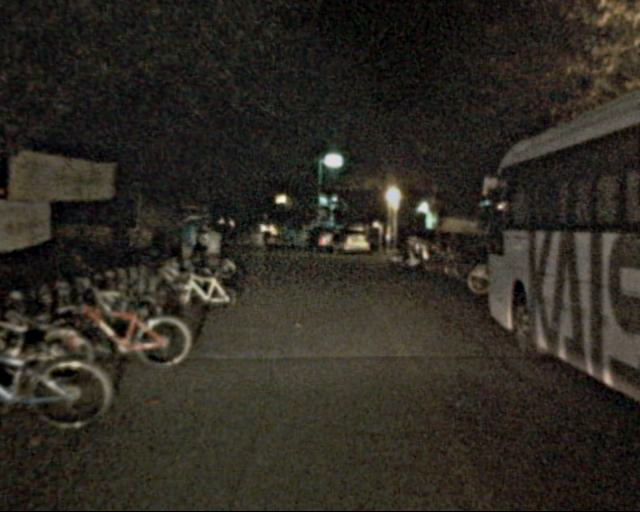person: (196, 221, 224, 289), (307, 227, 319, 257), (328, 226, 340, 256)
